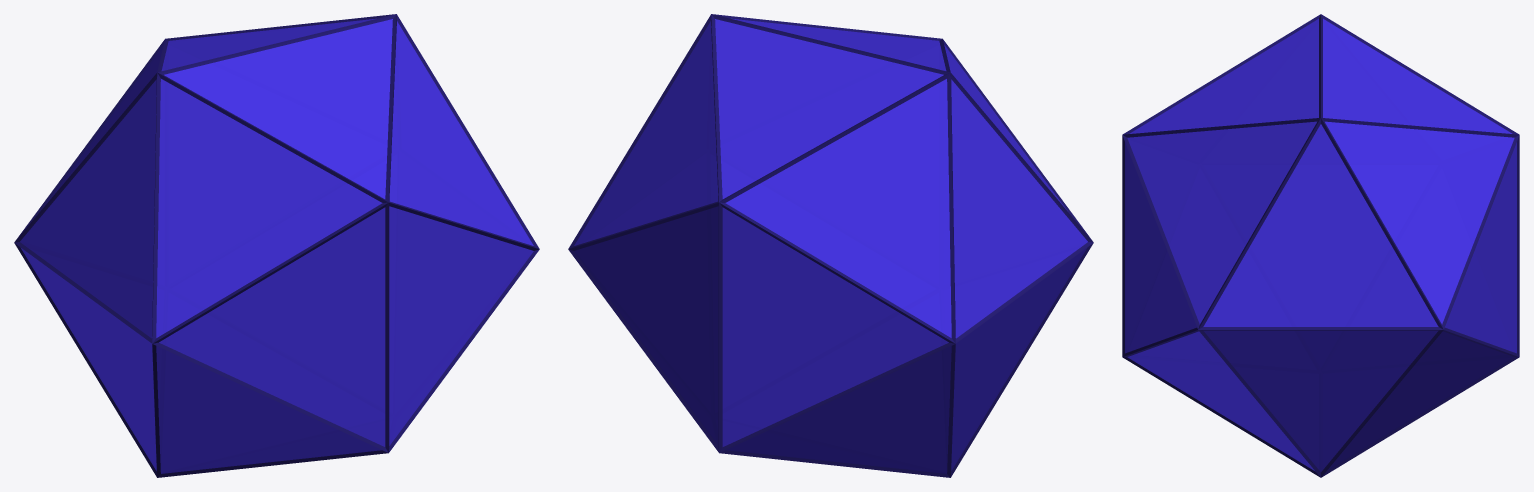
File: icosaedro.glb
The picture shows the model from 3 angles, left to right: view 1: azimuth 30°, elevation 25°; view 2: azimuth 150°, elevation 25°; view 3: azimuth 270°, elevation 25°; orthographic projection. The views are drawn at different scales.
Visible parts, largest first — view 1: Solid.002, Solid.009; view 2: Solid.002, Solid.009; view 3: Solid.002, Solid.009.
Boxes of the visible parts, x1=… form: Solid.002: x1=20, y1=18, x2=533, y2=473; Solid.009: x1=14, y1=14, x2=539, y2=477; Solid.002: x1=574, y1=18, x2=1087, y2=473; Solid.009: x1=568, y1=14, x2=1093, y2=477; Solid.002: x1=1125, y1=19, x2=1516, y2=471; Solid.009: x1=1122, y1=14, x2=1519, y2=477.
Size of the model in its own units: 1.72 by 1.72 by 1.72.
